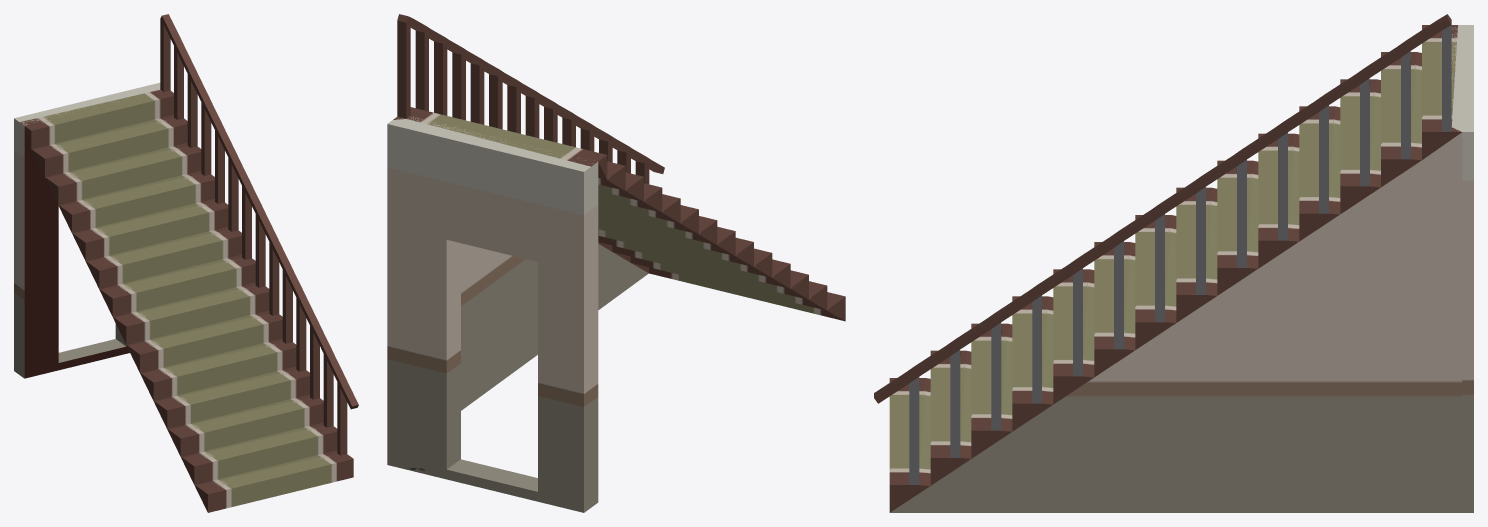
The model's file is M_StepsUp2.fbx.
The picture shows the model from 3 angles, left to right: view 1: azimuth 30°, elevation 25°; view 2: azimuth 150°, elevation 25°; view 3: azimuth 270°, elevation 25°; orthographic projection. The views are drawn at different scales.
Visible parts, largest first — view 1: Steps2; view 2: Steps2; view 3: Steps2.
Boxes of the visible parts, box(x1,y1,x2,y2) form: Steps2: box(14, 14, 358, 512); Steps2: box(387, 14, 845, 512); Steps2: box(874, 14, 1473, 512).
Bounding box in the file's own units: 174 × 374 × 411.
Materials: 1 (1 with a texture image).
